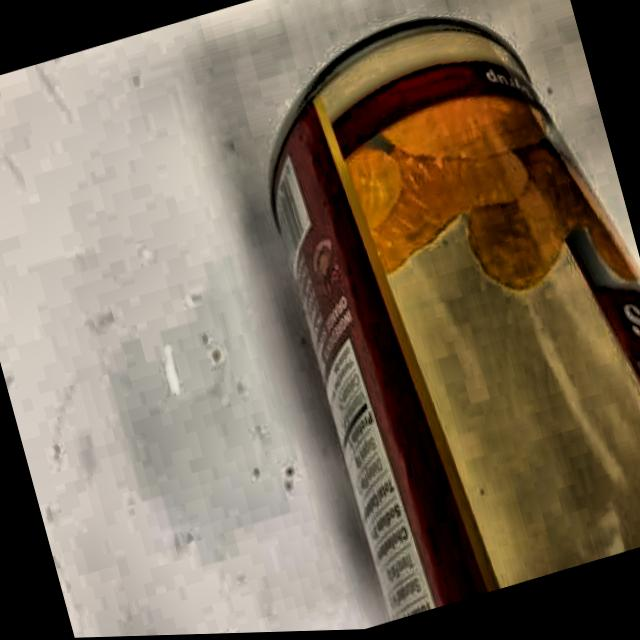Cans: (205, 0, 640, 635)
